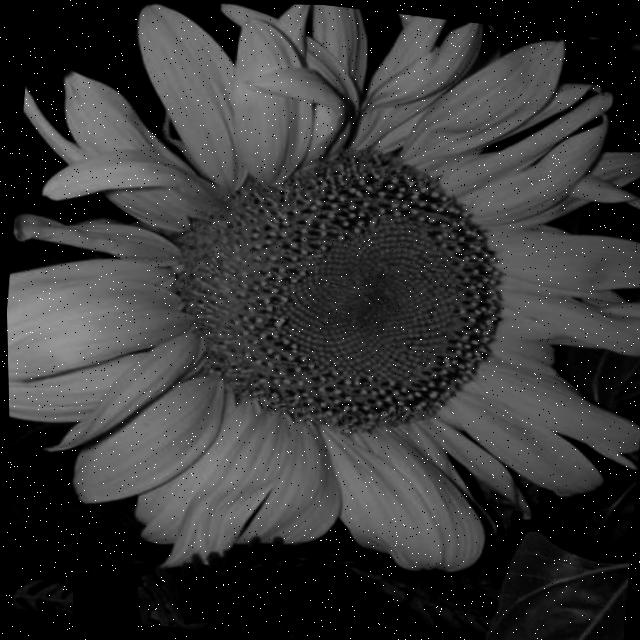sunflower: (0, 0, 640, 637)
